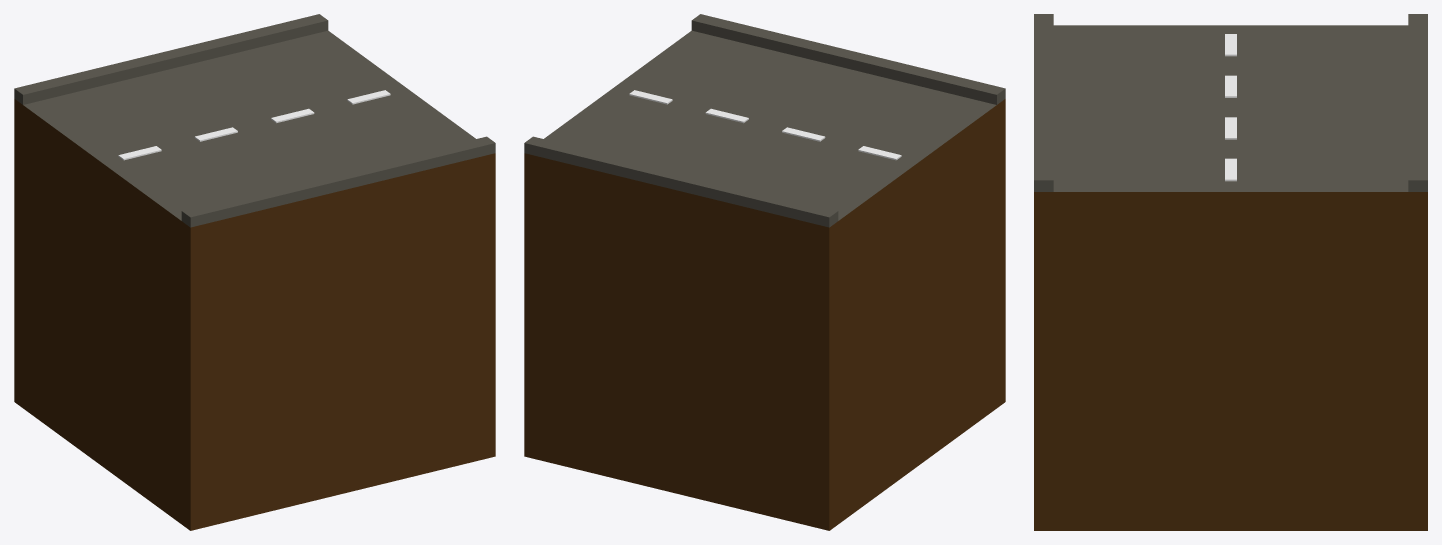
Rendered from CityRoadStraightCube_02.fbx.
The picture shows the model from 3 angles, left to right: view 1: azimuth 30°, elevation 25°; view 2: azimuth 150°, elevation 25°; view 3: azimuth 270°, elevation 25°; orthographic projection. The views are drawn at different scales.
Visible parts, largest first — view 1: CityRoadStraightCube_02; view 2: CityRoadStraightCube_02; view 3: CityRoadStraightCube_02.
Boxes of the visible parts, left/top/right/bottom form: CityRoadStraightCube_02: left=14, top=14, right=495, bottom=530; CityRoadStraightCube_02: left=524, top=14, right=1005, bottom=530; CityRoadStraightCube_02: left=1034, top=14, right=1427, bottom=530.
Size of the model in its own units: 1 by 0.9818 by 1.
